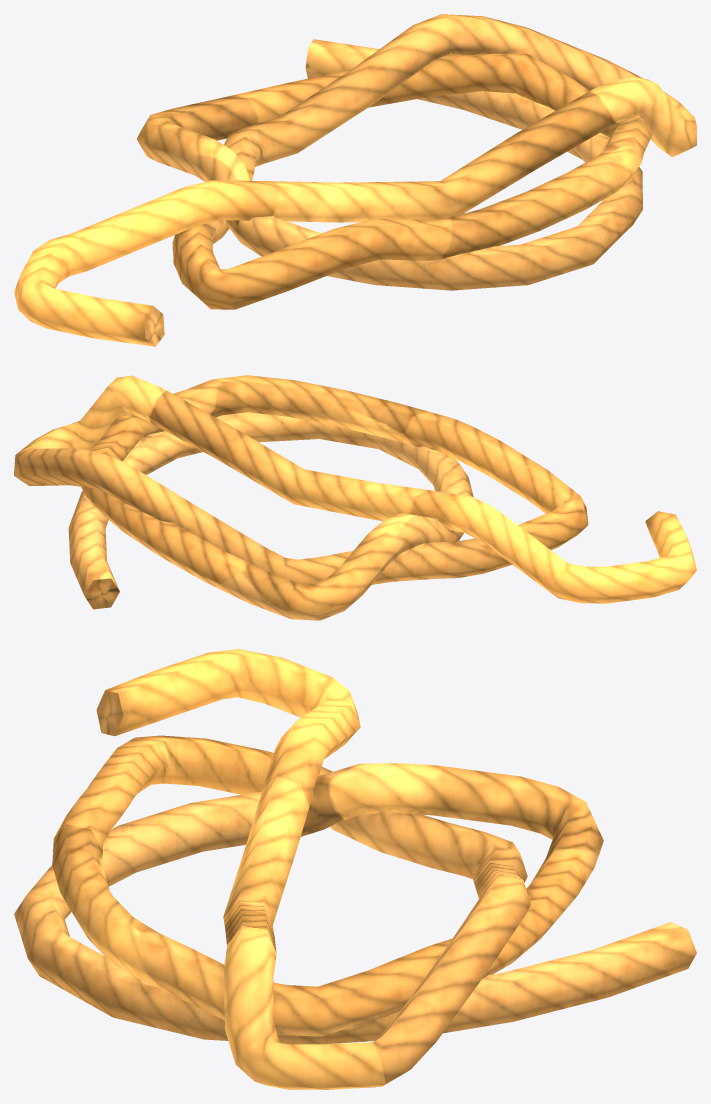
The model's file is SM_Stylized_Rope.fbx.
The picture shows the model from 3 angles, top to bottom: view 1: azimuth 30°, elevation 25°; view 2: azimuth 150°, elevation 25°; view 3: azimuth 270°, elevation 25°; orthographic projection. The views are drawn at different scales.
Visible parts, largest first — view 1: SM_Stylized_Rope_LOD0; view 2: SM_Stylized_Rope_LOD0; view 3: SM_Stylized_Rope_LOD0.
Boxes of the visible parts, x1,y1,x2,y2 form: SM_Stylized_Rope_LOD0: (14,14,696,346); SM_Stylized_Rope_LOD0: (14,375,696,620); SM_Stylized_Rope_LOD0: (14,649,696,1089).
Bounding box in the file's own units: 84.95 × 59.5 × 12.12.
